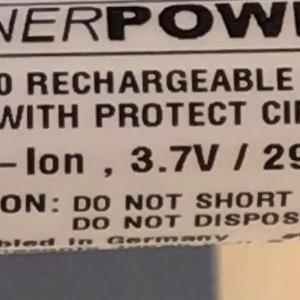keyword: (121, 134, 226, 183)
